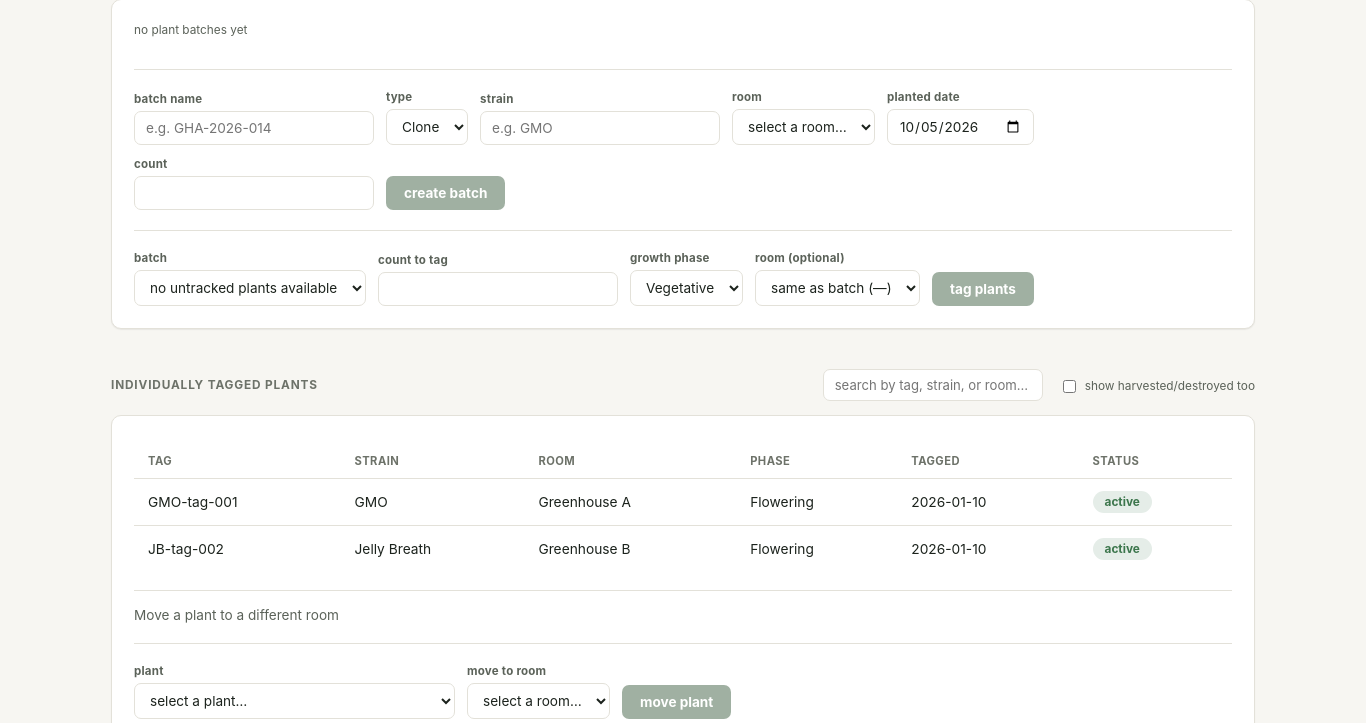
Scenario: PlantsBatches — plant search › shows a no-match message when nothing matches, without hiding the empty-state distinction
The width and height of the screenshot is (1366, 723).
(page scrolled)
Check: the text "GMO-tag-001" is shown, box [134,478,340,525]
Type "nonexistent-strain-xyz" into the field with placeholder "search by tag, strain, or room…". click: coordinates (933, 385)
box: [823,369,1043,401]
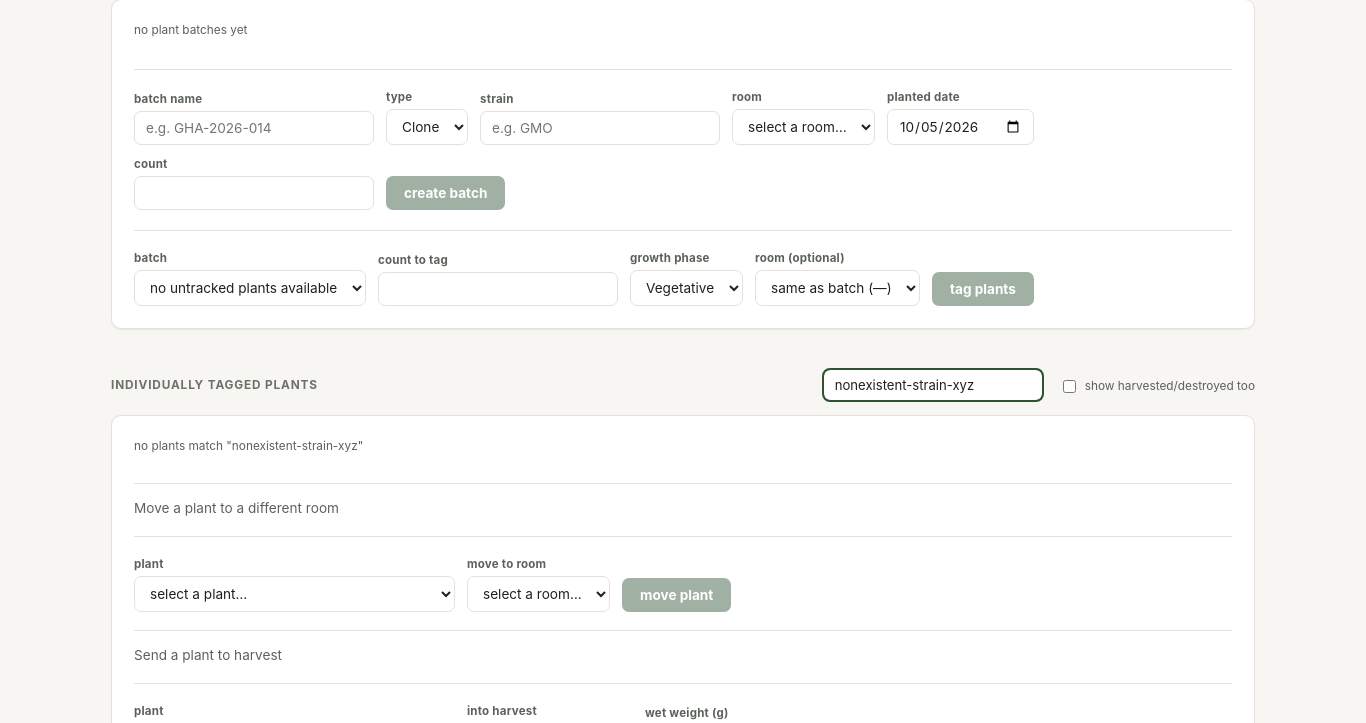
Check: the text "GMO-tag-001" is gone
Check: the text "no plants match \"nonexistent-strain-xyz\"" is shown, box [134,439,363,453]
